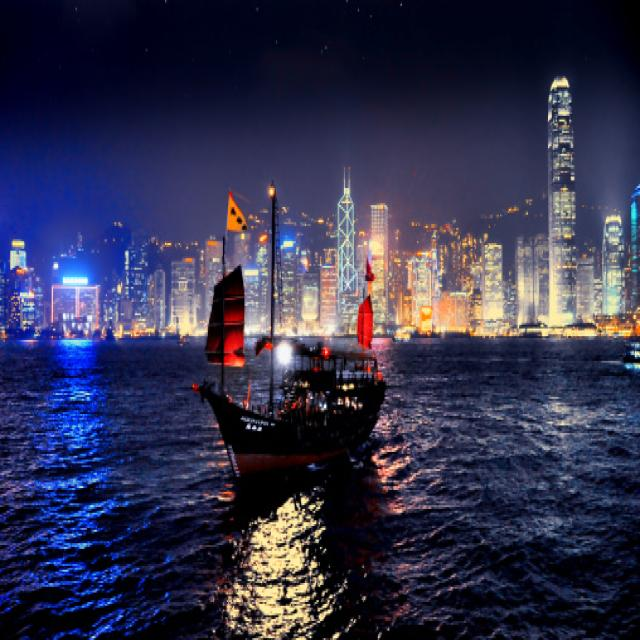Boat: (195, 349, 425, 517)
